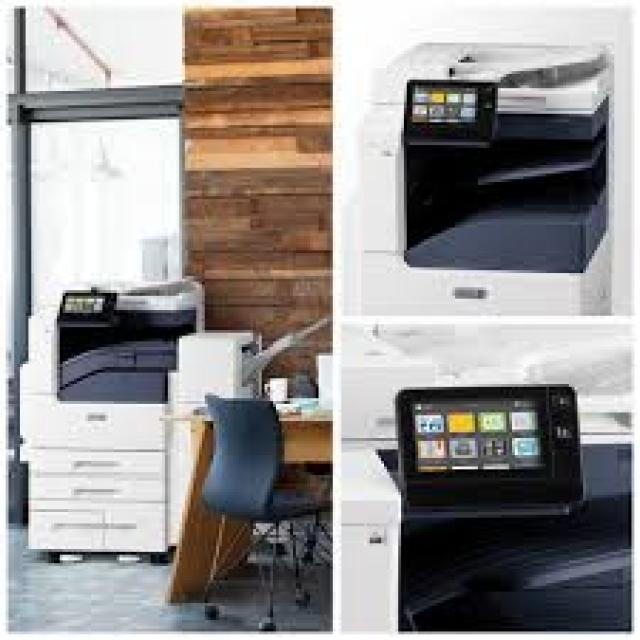printer: (353, 40, 614, 313), (17, 277, 209, 566)
